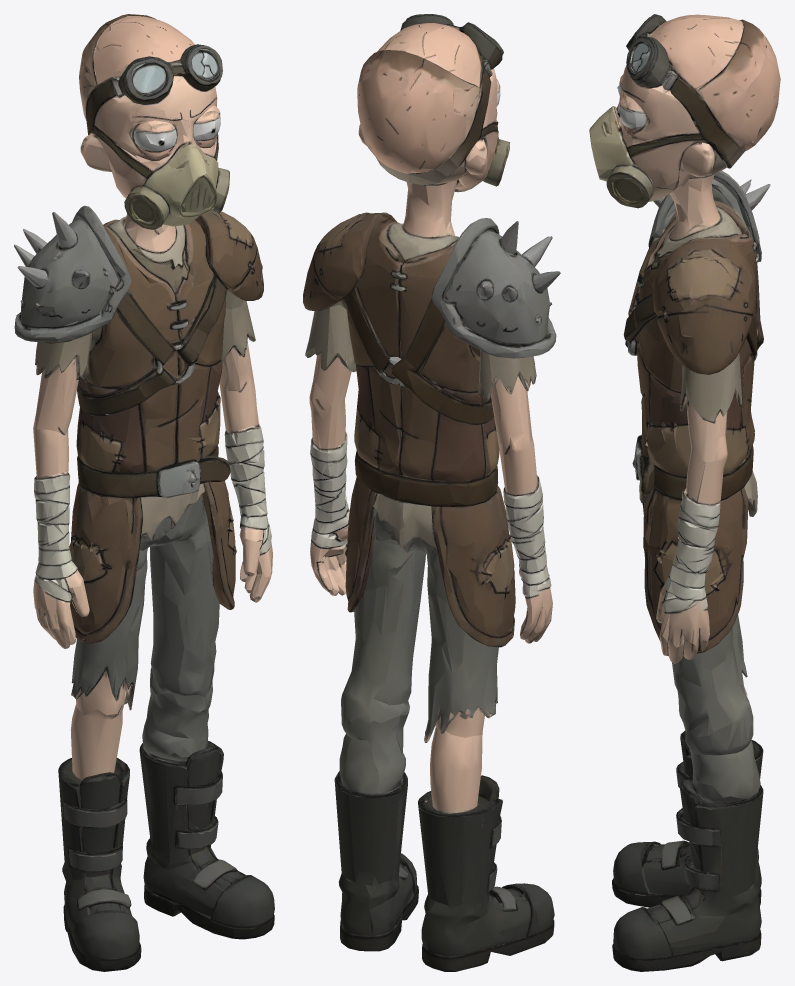
File: deathstalker-a.glb
The picture shows the model from 3 angles, left to right: view 1: azimuth 30°, elevation 25°; view 2: azimuth 150°, elevation 25°; view 3: azimuth 270°, elevation 25°; orthographic projection.
Bounding box in the file's own units: 0.5496 × 1.9 × 0.3638.
1 material, 1 textured.
